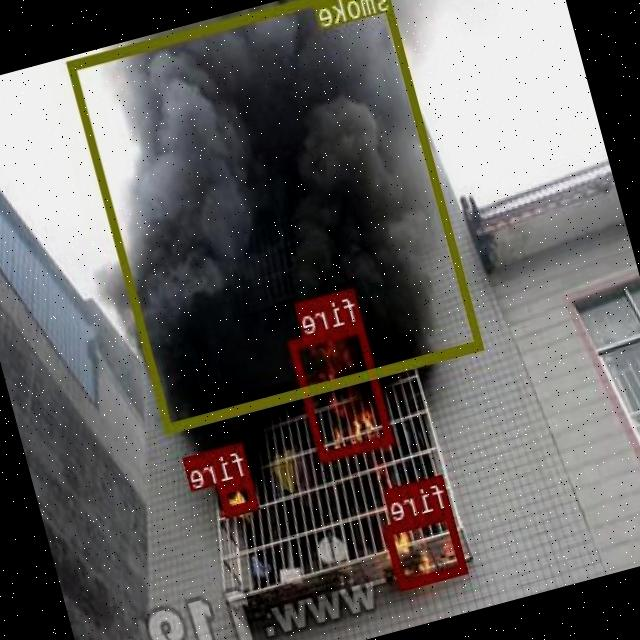fire: (289, 320, 396, 461), (384, 506, 469, 588), (218, 474, 260, 515)
smoke: (68, 0, 485, 430)
